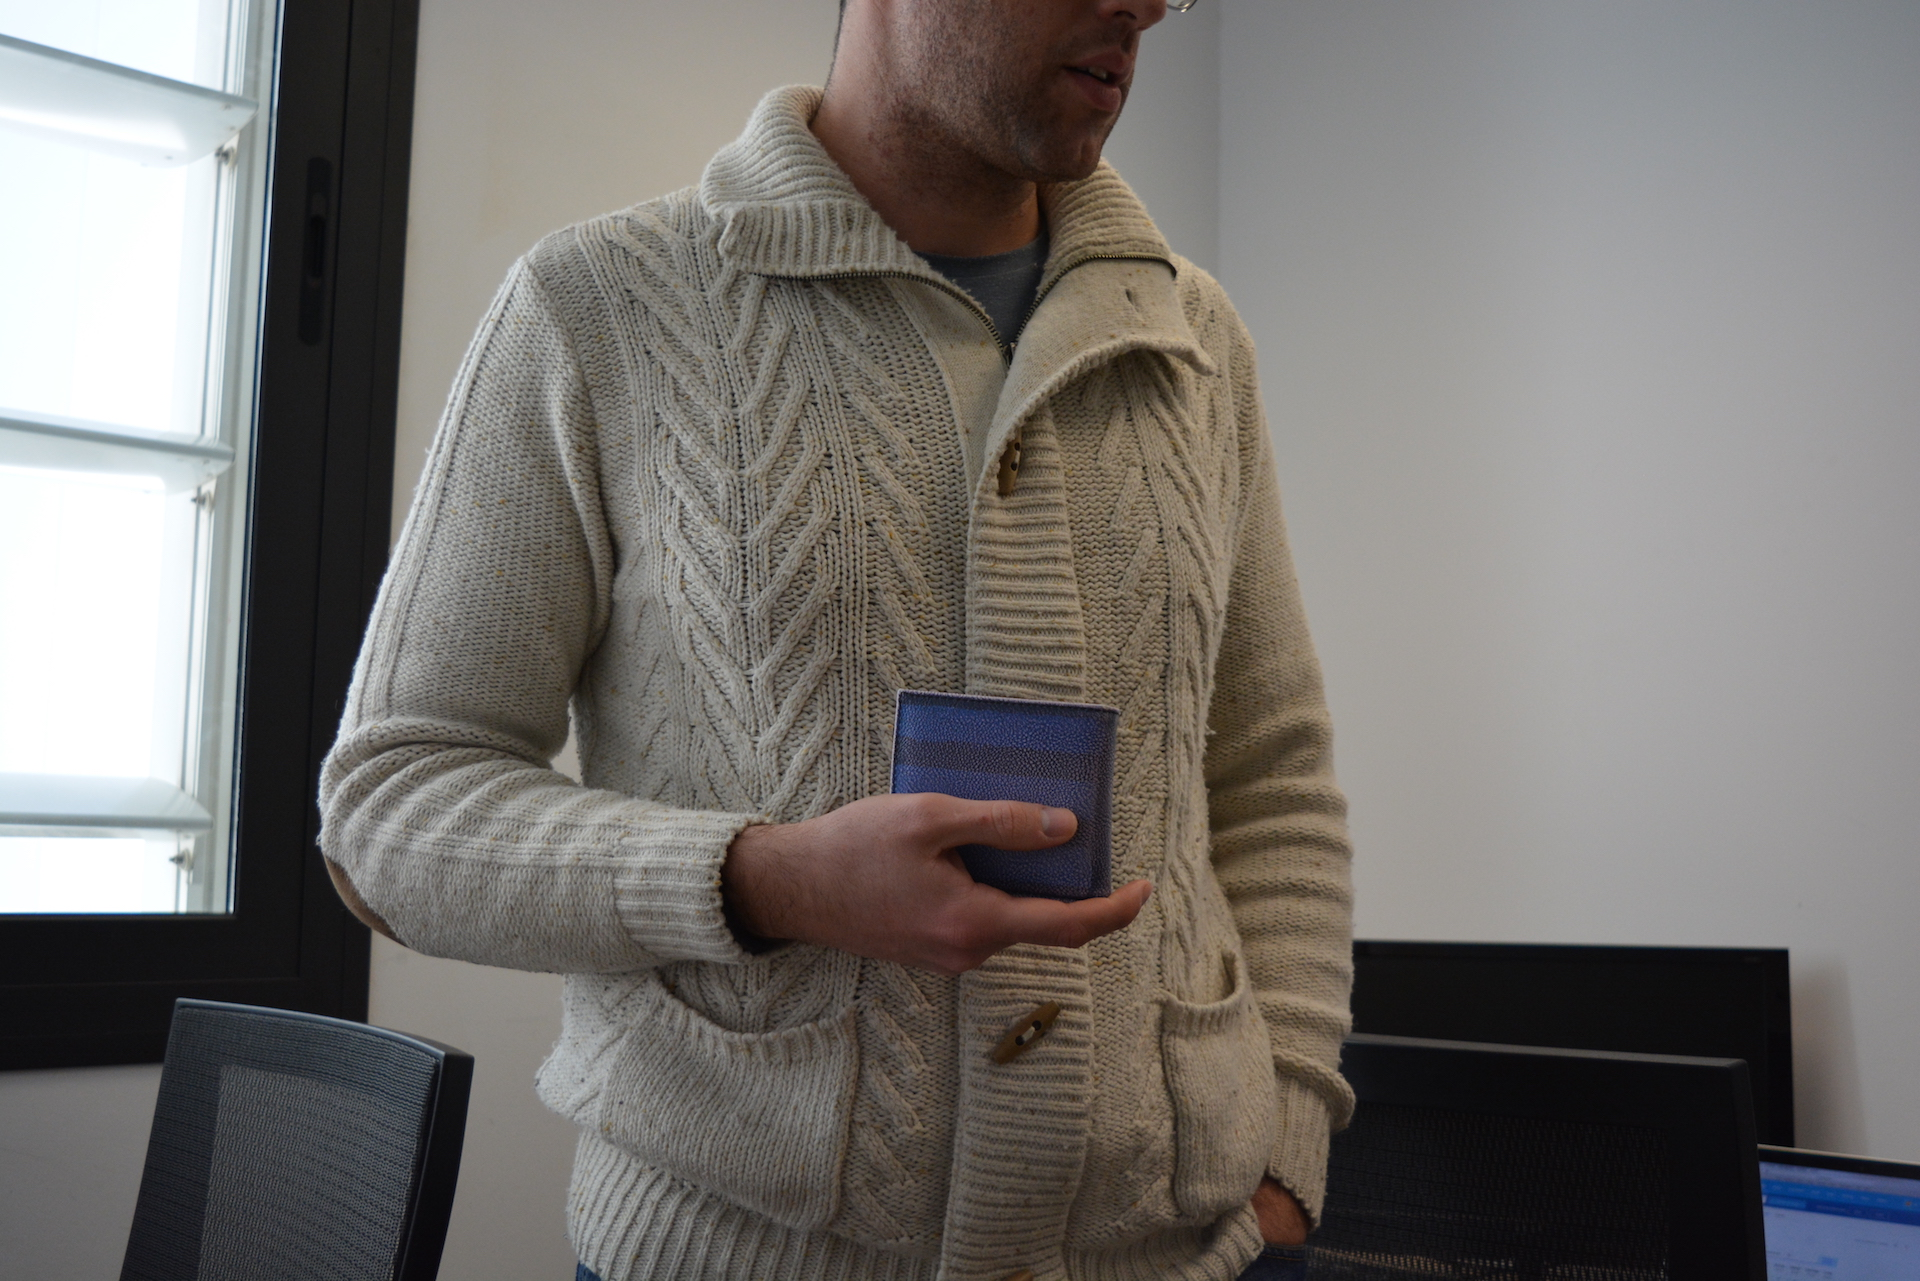monedero: (888, 688, 1124, 904)
